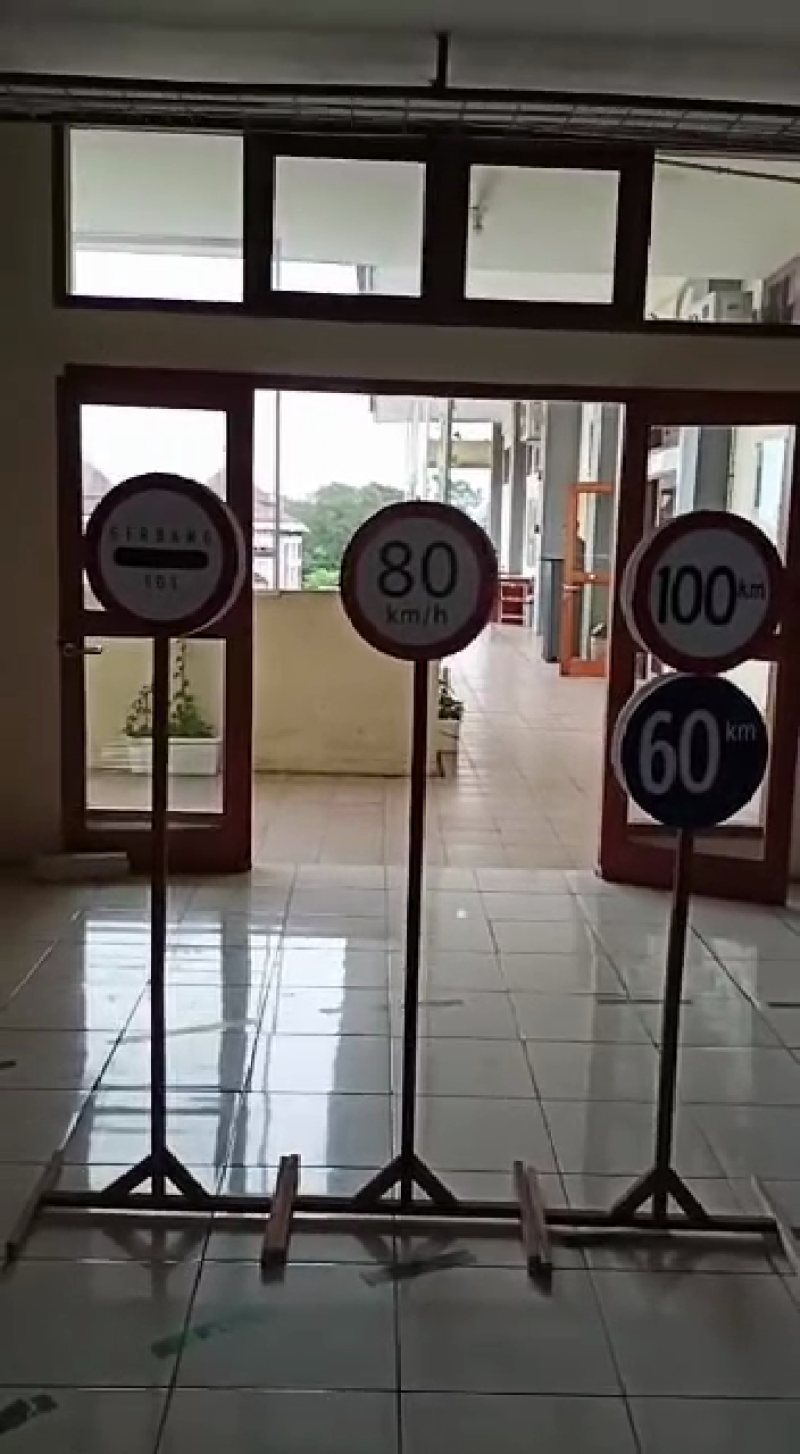batas maksimal 100kmperjam minimal 60kmperjam: (616, 511, 800, 835)
batas maksimal 80kmperjam: (329, 498, 503, 670)
gerbang tol: (87, 468, 248, 655)
